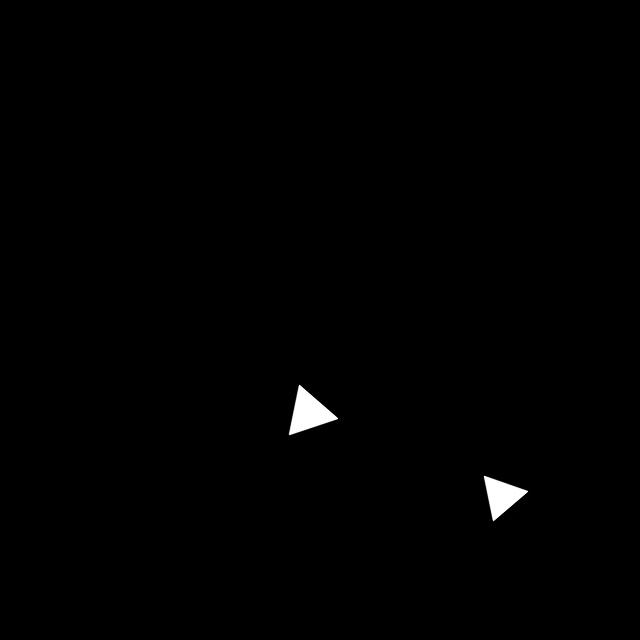Triangle: (275, 378, 350, 448), (468, 467, 536, 535)
